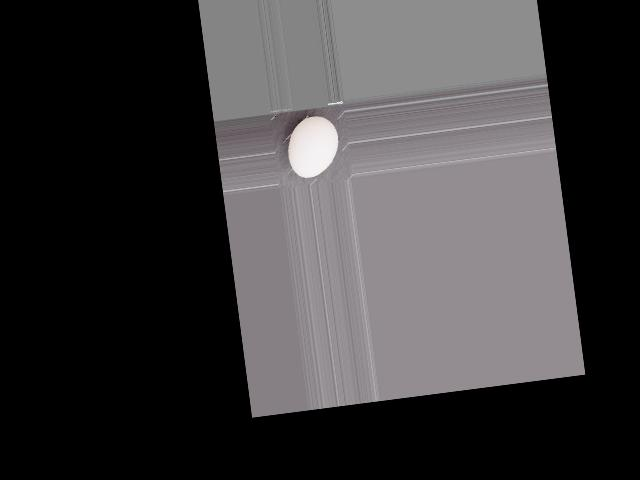egg: (283, 113, 342, 179)
